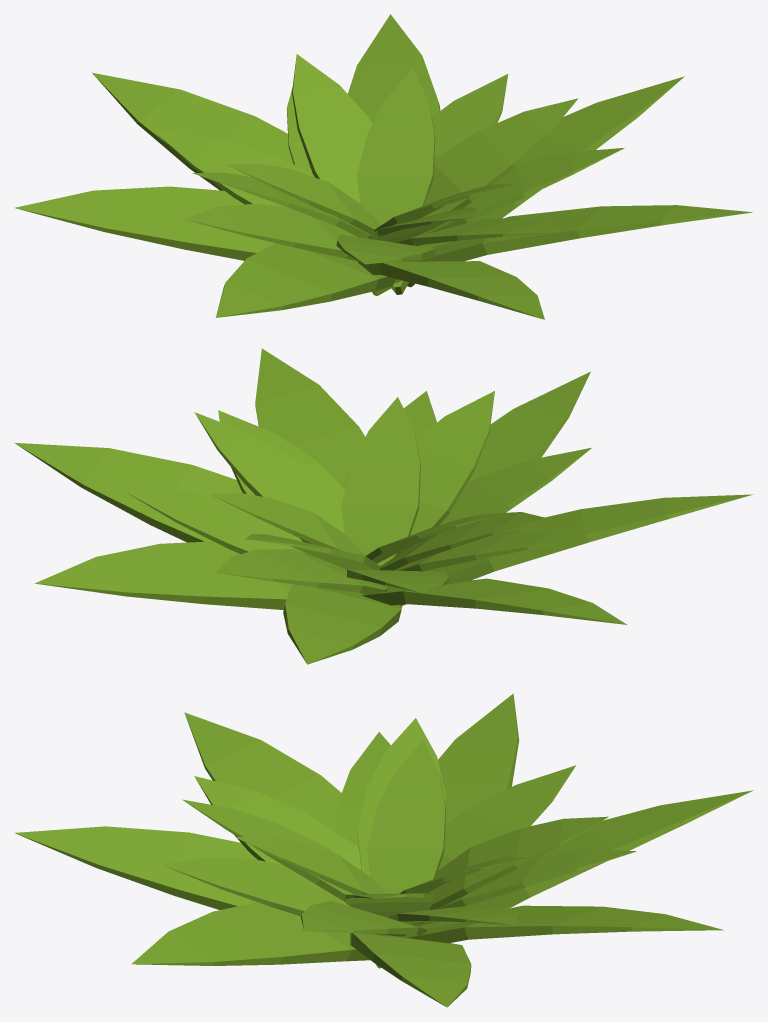
File: Farn hellgrün 2.fbx
The picture shows the model from 3 angles, top to bottom: view 1: azimuth 30°, elevation 25°; view 2: azimuth 150°, elevation 25°; view 3: azimuth 270°, elevation 25°; orthographic projection.
Parts seen in each view (by area): view 1: Farn_hellgrün_2; view 2: Farn_hellgrün_2; view 3: Farn_hellgrün_2.
Part boxes in pixels (<box>): Farn_hellgrün_2: <box>14,14,752,319</box>; Farn_hellgrün_2: <box>14,348,753,664</box>; Farn_hellgrün_2: <box>15,693,753,1007</box>.
Bounding box in the file's own units: 483 × 108 × 480.
